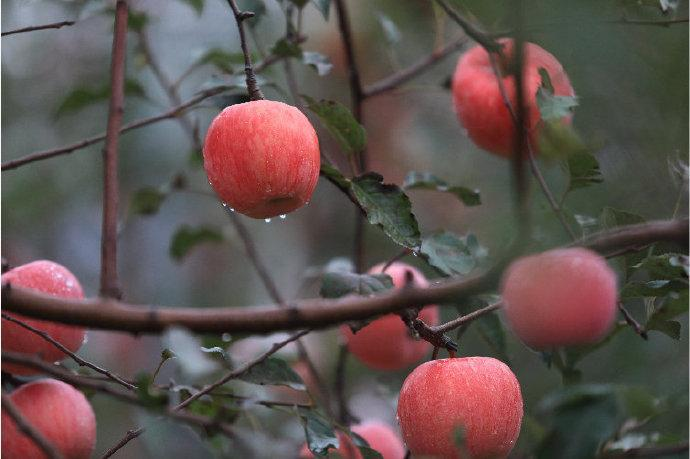apple: (450, 41, 581, 162), (201, 100, 319, 219), (393, 355, 523, 456), (1, 259, 86, 372), (3, 378, 96, 456)
